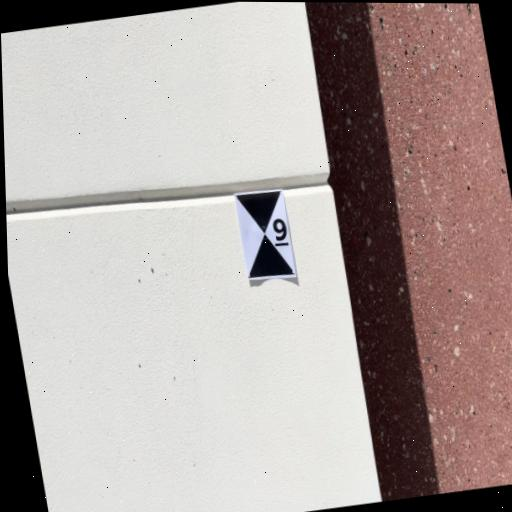target9: (234, 189, 296, 280)
